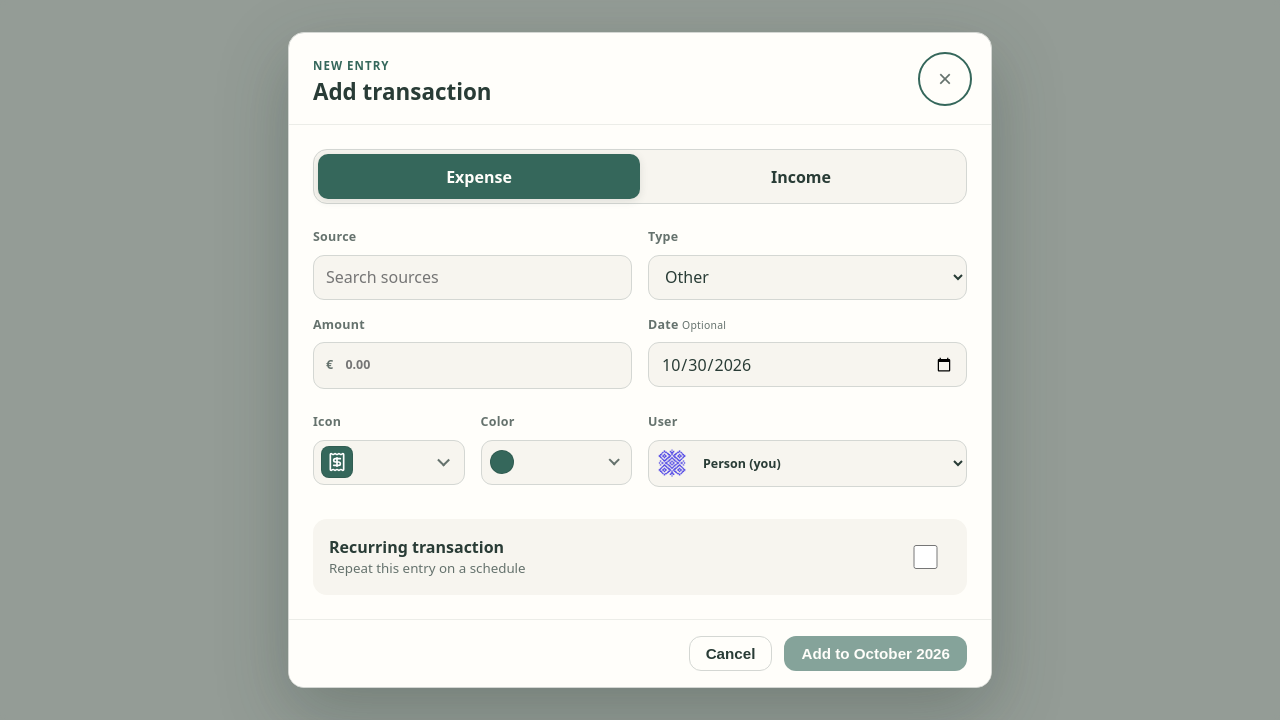
Scenario: transaction form + query + HTTP client › keeps focus on the kind control while its dependent field crossfades
Click the radio button labelled "Income". click: (801, 177)
box: [771,166,831,188]
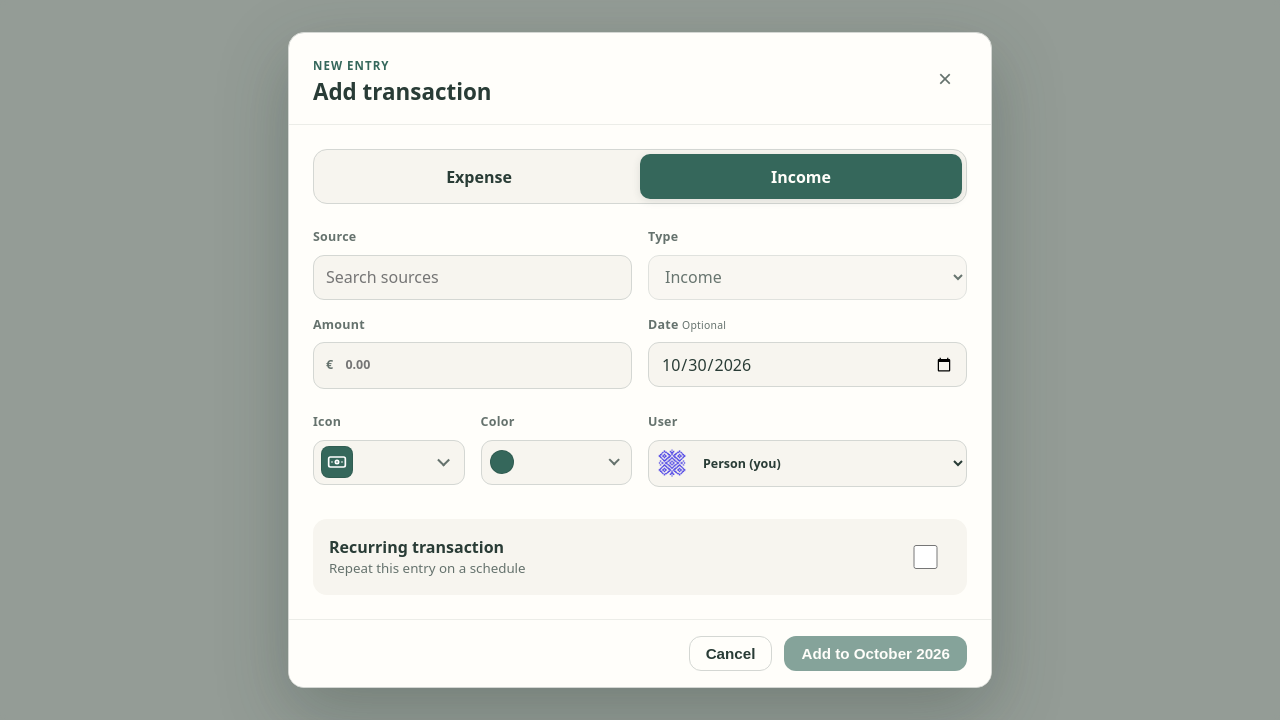
Now the dropdown labelled "Type" is disabled, box [648,255,967,300]
Click the radio button labelled "Expense". click: (479, 177)
box: [446,166,512,188]
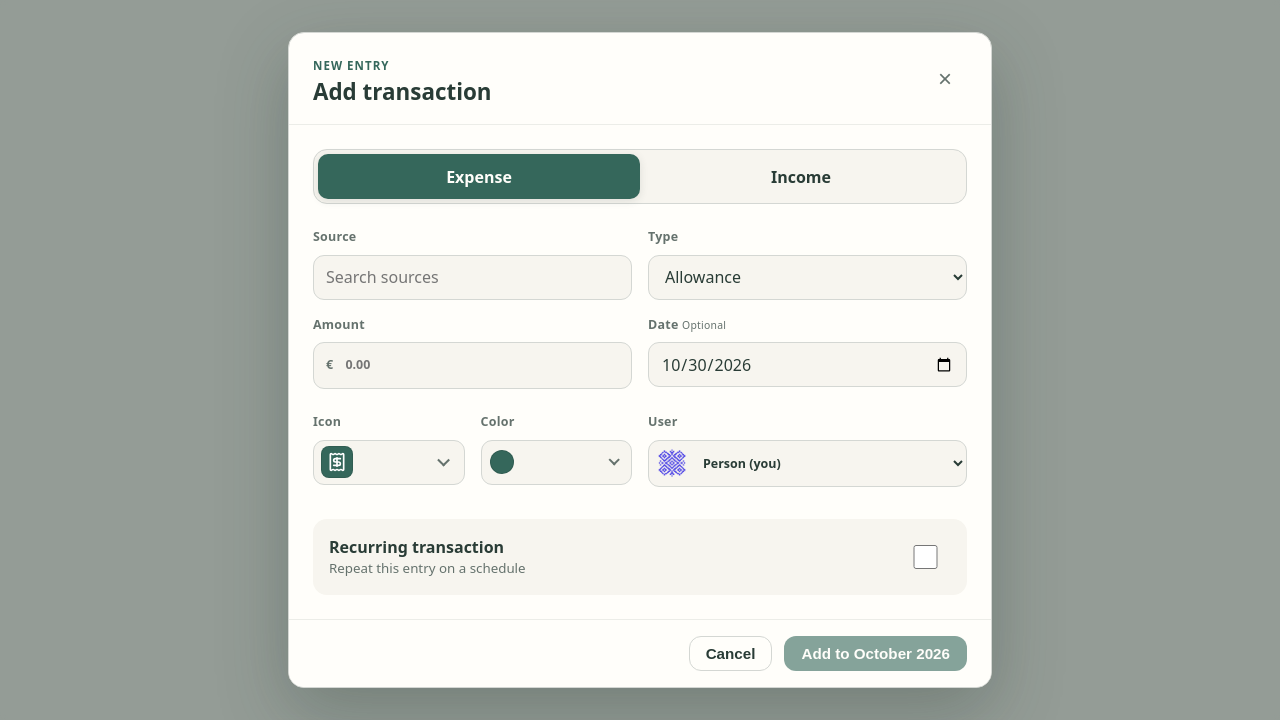
Now the dropdown labelled "Type" is enabled, box [648,255,967,300]
